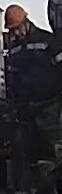helmet: (3, 2, 29, 31)
vest: (3, 28, 62, 106)
